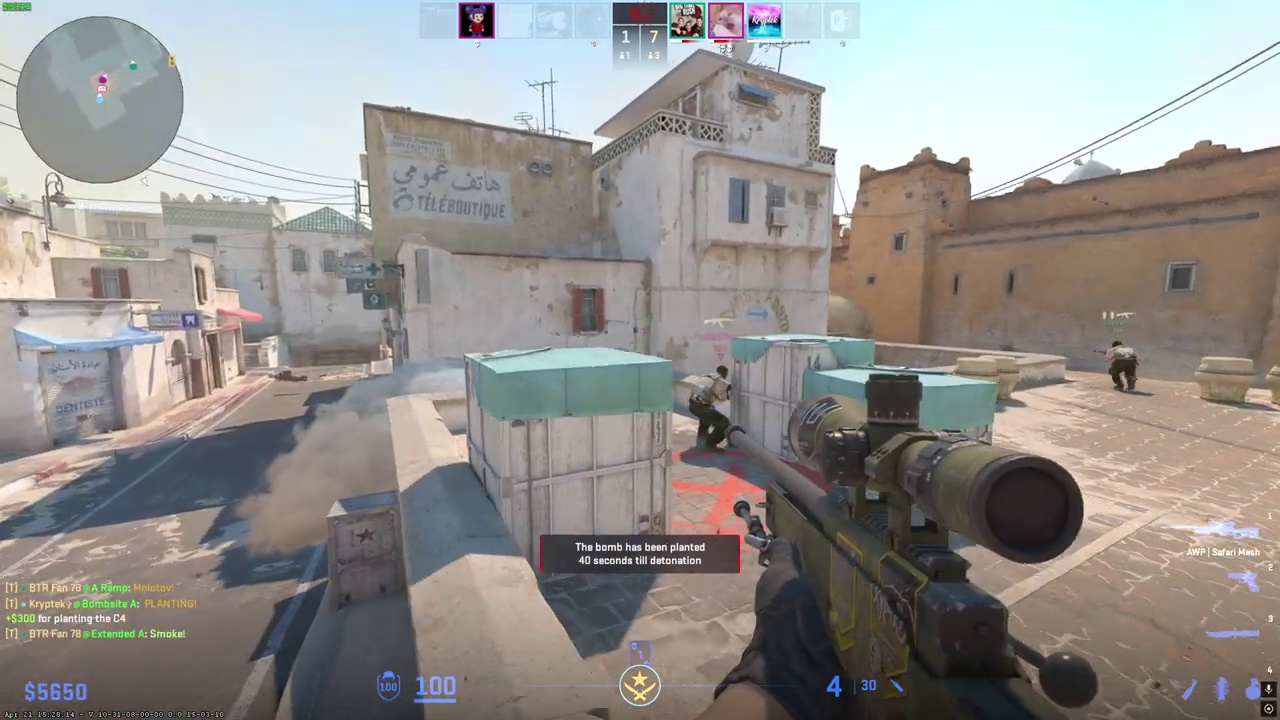Terrorist: (690, 365, 735, 452), (1106, 340, 1137, 391)
